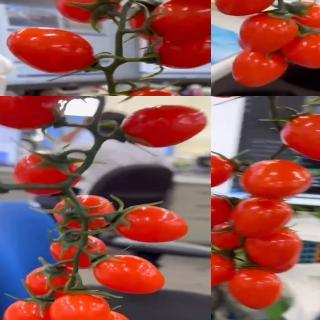tomato: (5, 27, 95, 75), (121, 105, 209, 148), (93, 254, 167, 295), (240, 160, 311, 201), (117, 205, 190, 243), (148, 0, 211, 42), (244, 227, 302, 272), (227, 266, 284, 311), (239, 13, 300, 54), (231, 198, 293, 238), (14, 154, 82, 190), (52, 193, 118, 230), (150, 29, 211, 68), (48, 233, 109, 270), (232, 49, 287, 89), (278, 110, 320, 161), (0, 96, 66, 128), (24, 266, 78, 302), (47, 291, 109, 320), (53, 0, 122, 26), (282, 30, 320, 70), (2, 298, 57, 320), (214, 0, 278, 17), (211, 252, 237, 290), (290, 2, 320, 33), (211, 155, 236, 192), (211, 195, 234, 229), (80, 308, 135, 320), (7, 96, 96, 101)
